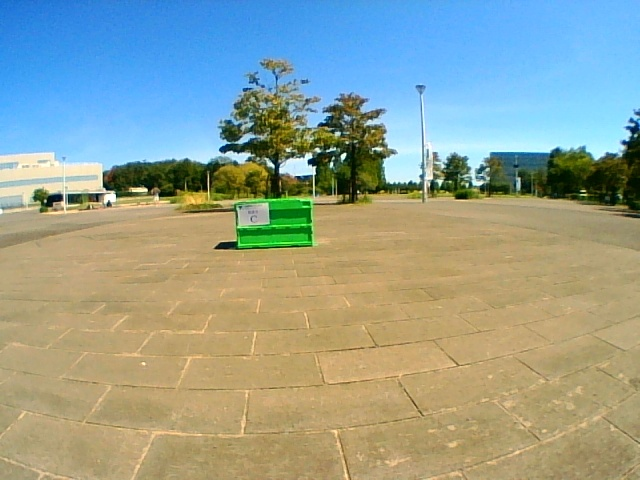green_box: (235, 198, 312, 247)
tag_c: (238, 204, 269, 225)
